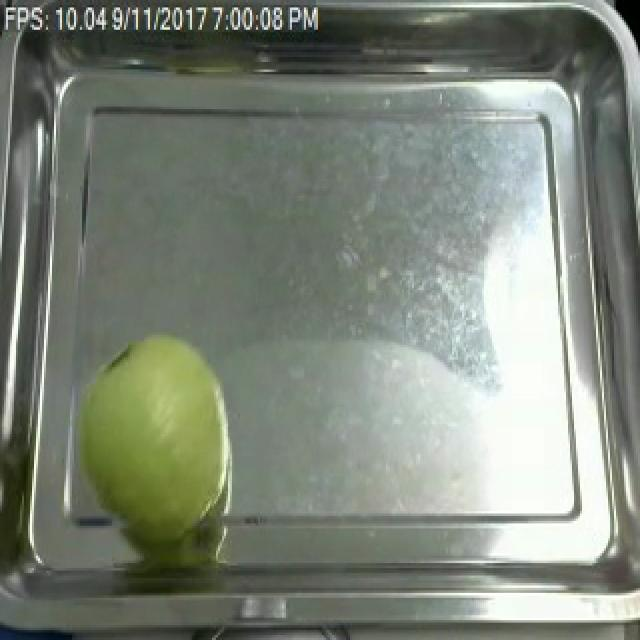Fruit: (52, 323, 248, 553)
